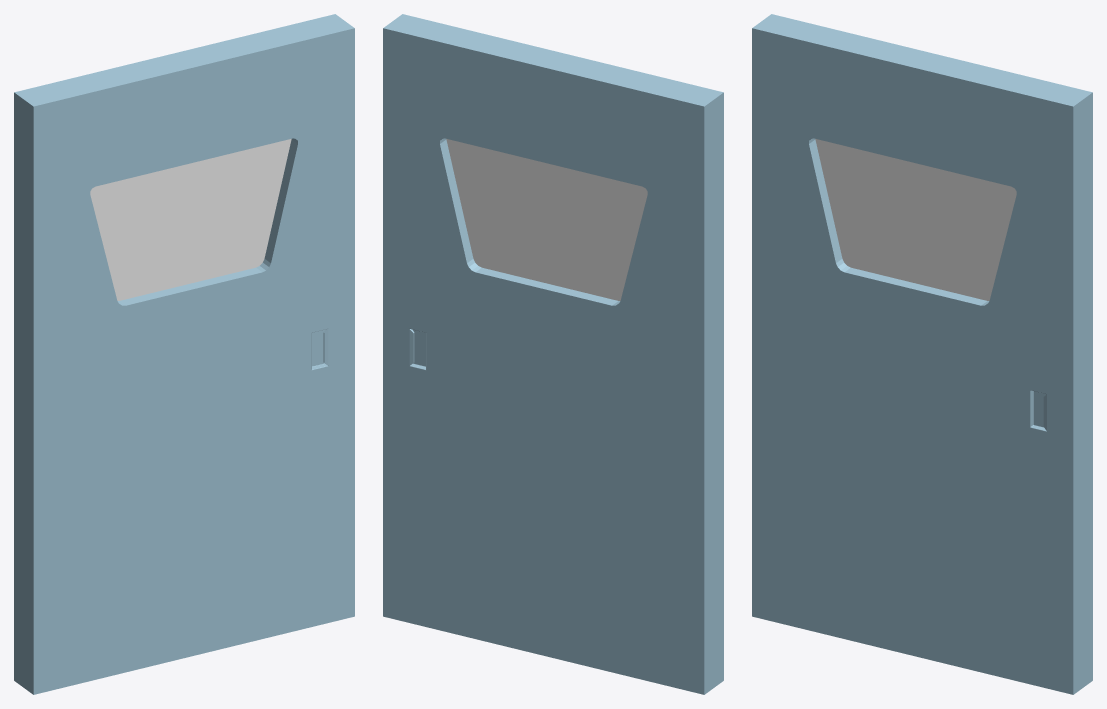
Rendered from door.glb.
3 views of the same model, side by side, from view 1: azimuth 30°, elevation 25°; view 2: azimuth 150°, elevation 25°; view 3: azimuth 330°, elevation 25° (orthographic).
Visible parts, largest first — view 1: Door; view 2: Door; view 3: Door.
Part boxes in pixels (bbox=[...]): Door: bbox=[14, 14, 354, 694]; Door: bbox=[383, 14, 723, 694]; Door: bbox=[752, 14, 1092, 694].
Size of the model in its own units: 1.2 by 2.1 by 0.1257.
